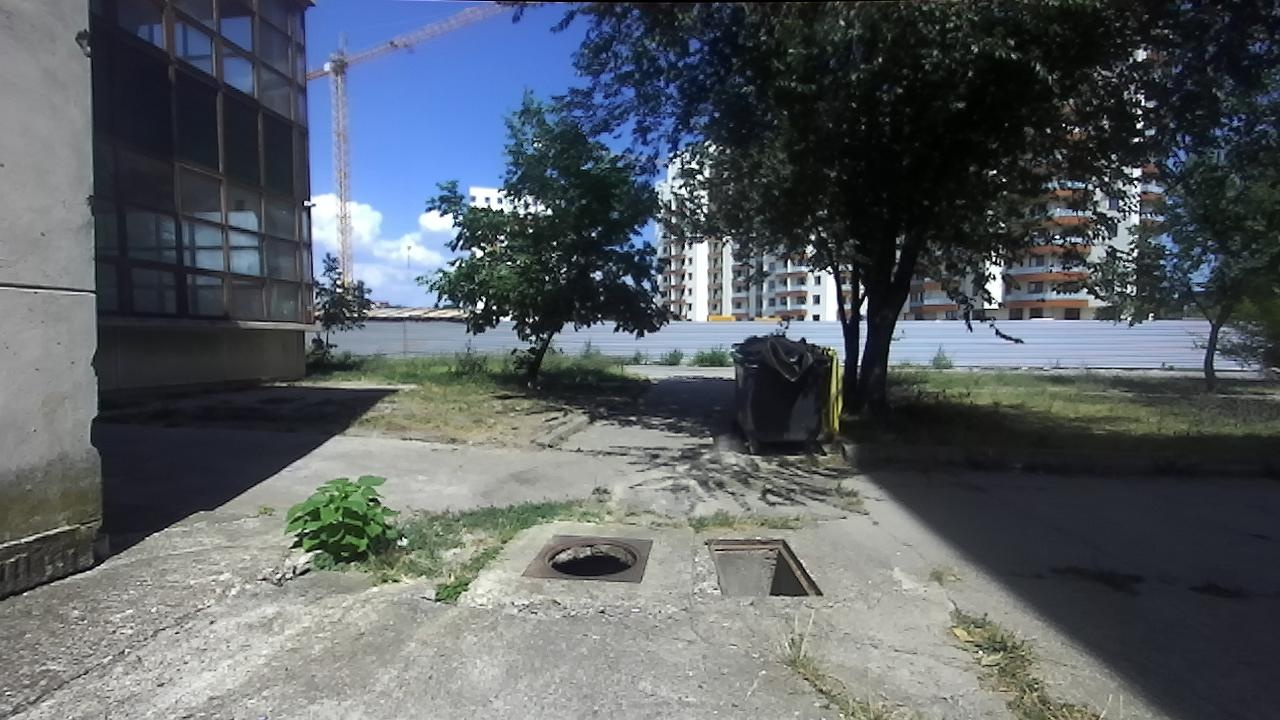drain: (704, 535, 826, 602), (538, 536, 639, 577)
